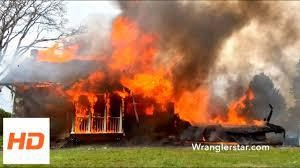fire: (33, 17, 246, 135), (209, 87, 268, 128)
